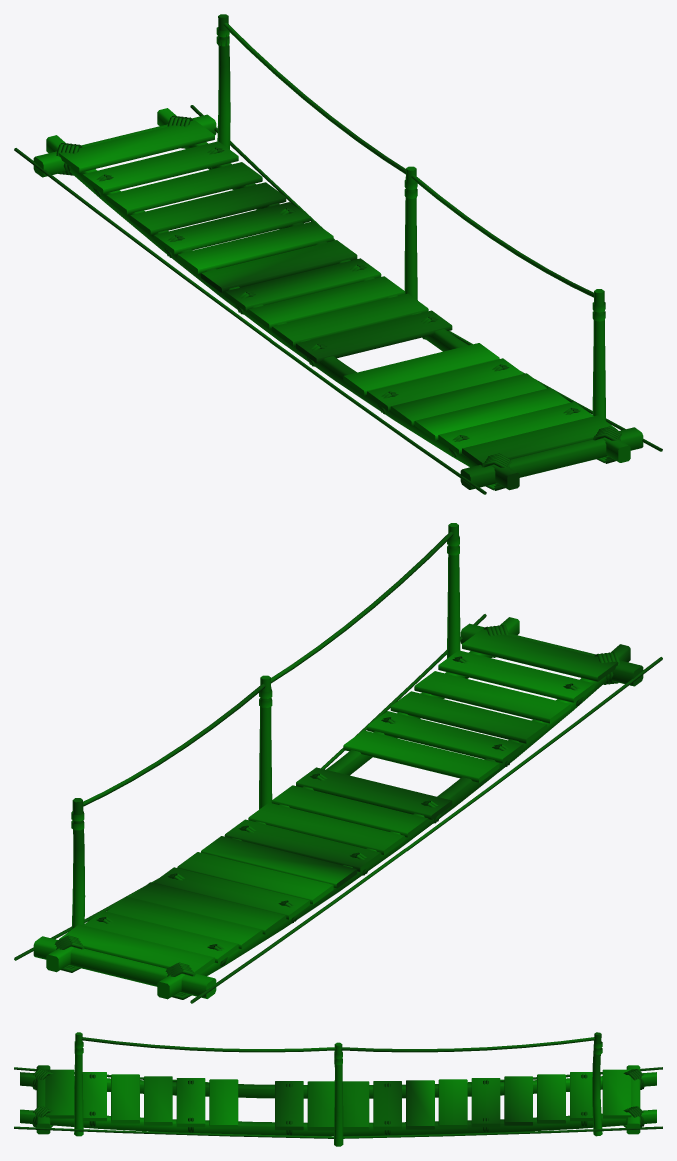
Rendered from plank_bridge.glb.
3 renders of one model, top to bottom at view 1: azimuth 30°, elevation 25°; view 2: azimuth 150°, elevation 25°; view 3: azimuth 270°, elevation 25°, orthographic. The views are drawn at different scales.
Parts seen in each view (by area): view 1: plank_bridge; view 2: plank_bridge; view 3: plank_bridge.
Part boxes in pixels (<box>): plank_bridge: <box>14,14,662,494</box>; plank_bridge: <box>14,523,662,1003</box>; plank_bridge: <box>14,1032,662,1146</box>.
Size of what is drawn, in the model's own units: 1.45 by 1.25 by 6.6.
